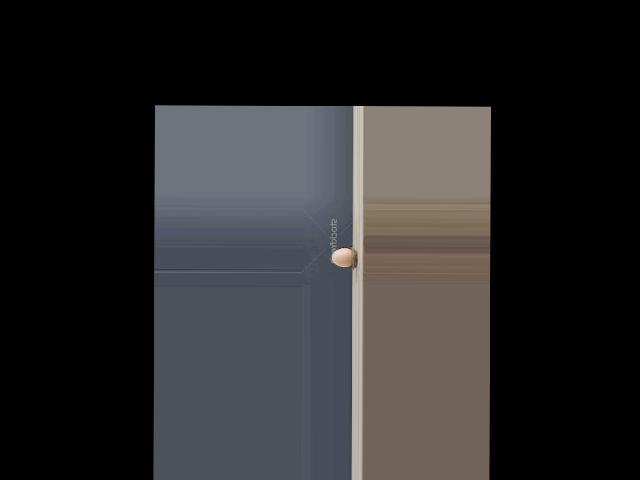egg: (332, 248, 352, 267)
